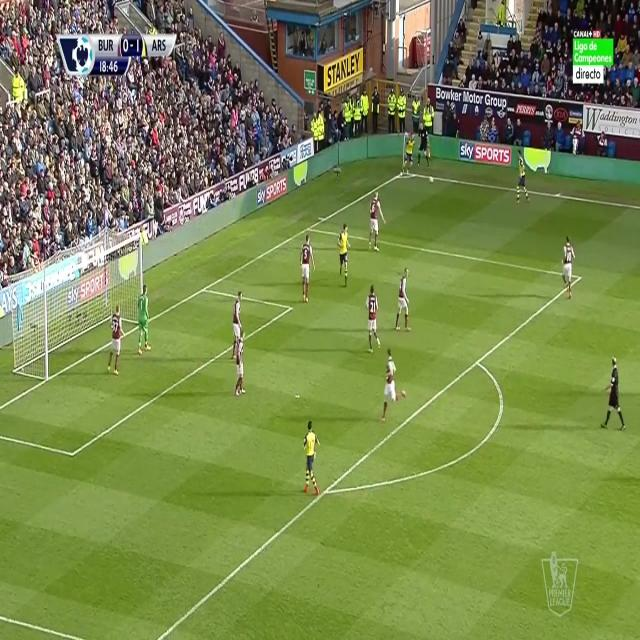Ball: (427, 172, 436, 188)
Goalkeeper: (136, 282, 154, 356)
Player: (378, 347, 406, 426), (301, 421, 323, 501), (105, 303, 126, 380), (366, 189, 388, 254), (393, 266, 413, 336), (298, 234, 316, 305), (560, 236, 578, 301), (336, 223, 354, 287), (365, 284, 381, 356), (512, 150, 532, 206), (233, 331, 247, 402), (230, 292, 244, 360), (401, 133, 417, 176)
Referee: (597, 352, 629, 438), (415, 121, 431, 169)
